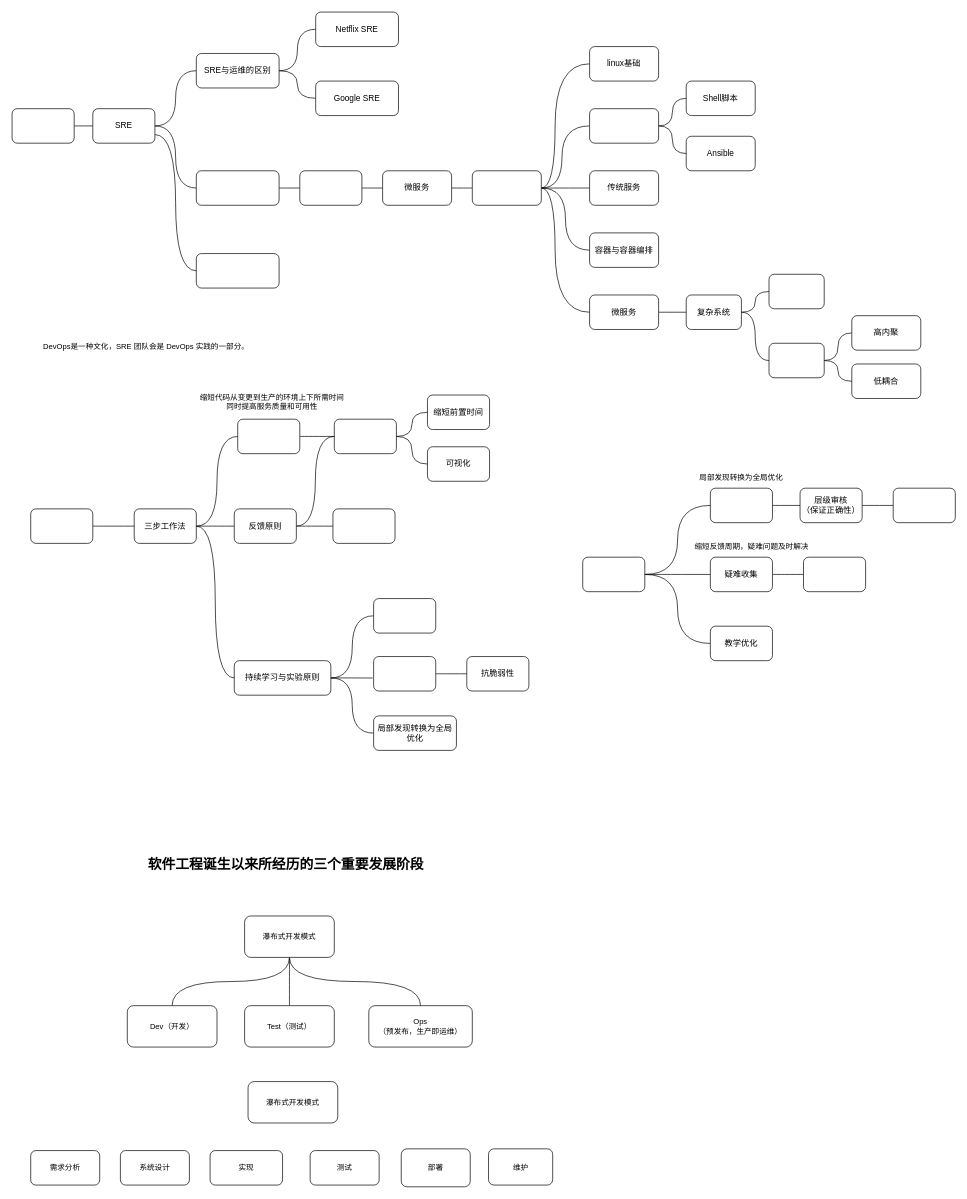
Some shapes in this 967 by 1199 pixel diagram are drawn without their labels. The shapes that lost their labels are listed below. From the top down, each one's box as (x1, y1, x2, y2) in pixels, then its label:
(11, 108, 74, 143): 认知科普
(589, 108, 659, 143): 自动化工具
(196, 170, 279, 205): SRE出现的必要性
(299, 170, 362, 205): 传统服务到微服务的演变过程
(472, 170, 541, 205): 课程体系介绍
(196, 253, 279, 288): SRE的职责 （解决的问题）
(768, 274, 824, 309): 常见问题
(768, 343, 824, 378): 解决方法
(237, 418, 300, 454): 流动原则
(334, 418, 396, 454): CICD pipeline
(710, 487, 772, 523): 错误的收集
(893, 487, 955, 523): 解决方案共享
(30, 508, 93, 543): Devops
(332, 508, 395, 543): 监控与告警
(582, 556, 645, 592): Devops在学习场景的再现
(803, 556, 866, 592): 通用性问题显性解决
(373, 598, 436, 633): 生机型文化
(373, 656, 436, 691): 混沌工程
